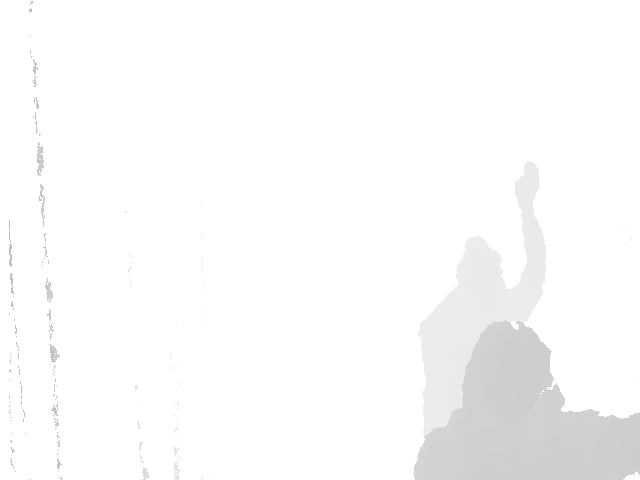hand: (514, 161, 539, 203)
head: (466, 319, 554, 422), (455, 237, 503, 298)
person: (416, 161, 552, 438), (410, 319, 640, 480)
